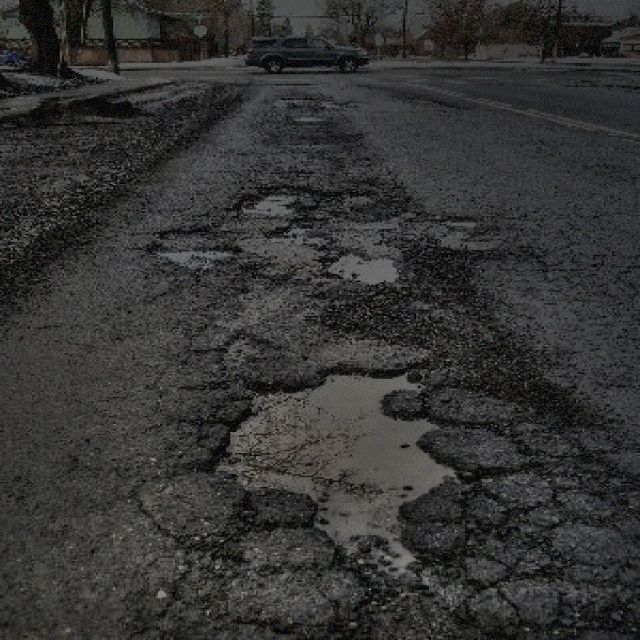pothole: (198, 358, 474, 583), (145, 226, 241, 269), (230, 180, 318, 218), (320, 250, 403, 288), (258, 216, 327, 243), (442, 213, 480, 229)
